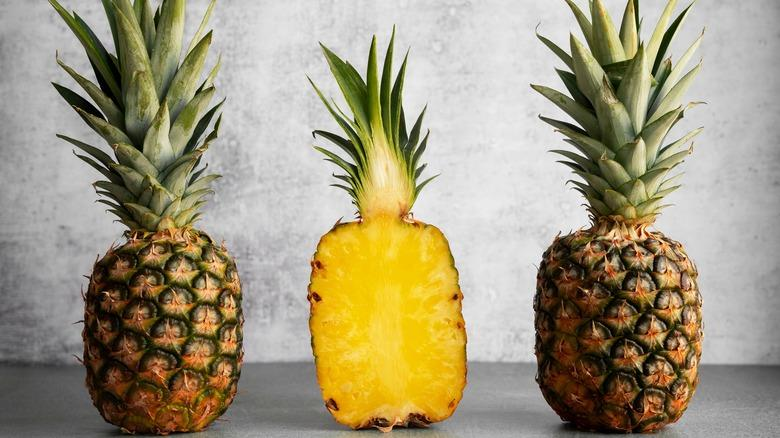organic: (51, 0, 242, 433), (534, 0, 702, 431), (308, 27, 466, 428), (0, 0, 122, 362)
